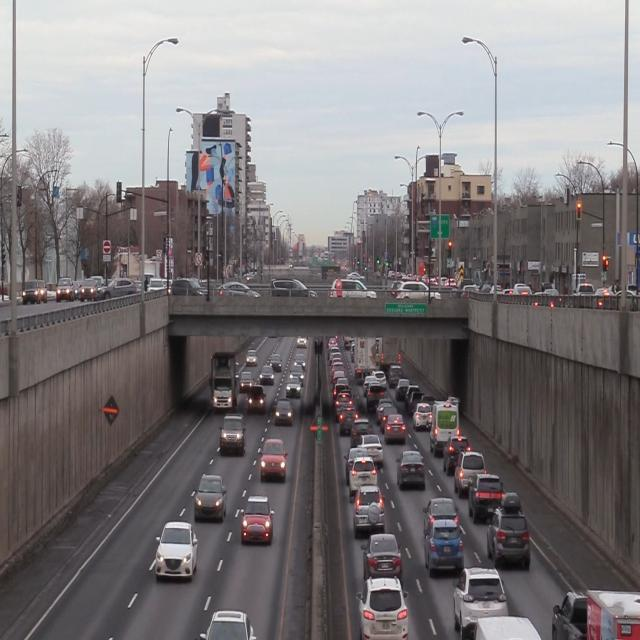Car: (153, 520, 198, 580), (190, 473, 227, 521), (197, 610, 257, 639), (240, 495, 274, 545)
Traffic-light: (575, 200, 582, 220), (602, 255, 609, 271)
